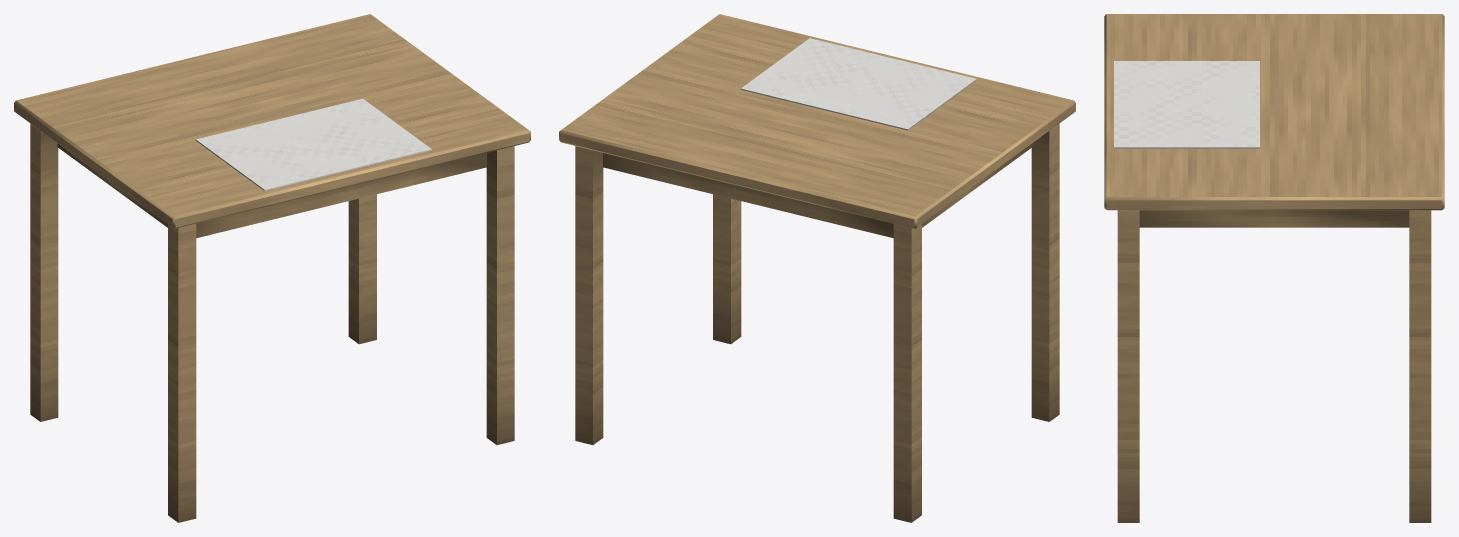
The model's file is dining_table.glb.
3 views of the same model, side by side, from view 1: azimuth 30°, elevation 25°; view 2: azimuth 150°, elevation 25°; view 3: azimuth 270°, elevation 25° (orthographic). The views are drawn at different scales.
Visible parts, largest first — view 1: body; view 2: body; view 3: body.
Boxes of the visible parts, x1,y1,x2,y2 form: body: (14, 14, 530, 522); body: (559, 14, 1075, 522); body: (1104, 14, 1444, 522).
Size of what is drawn, in the model's own units: 0.9 by 0.753 by 0.7.
Materials: 2 (2 with a texture image).
